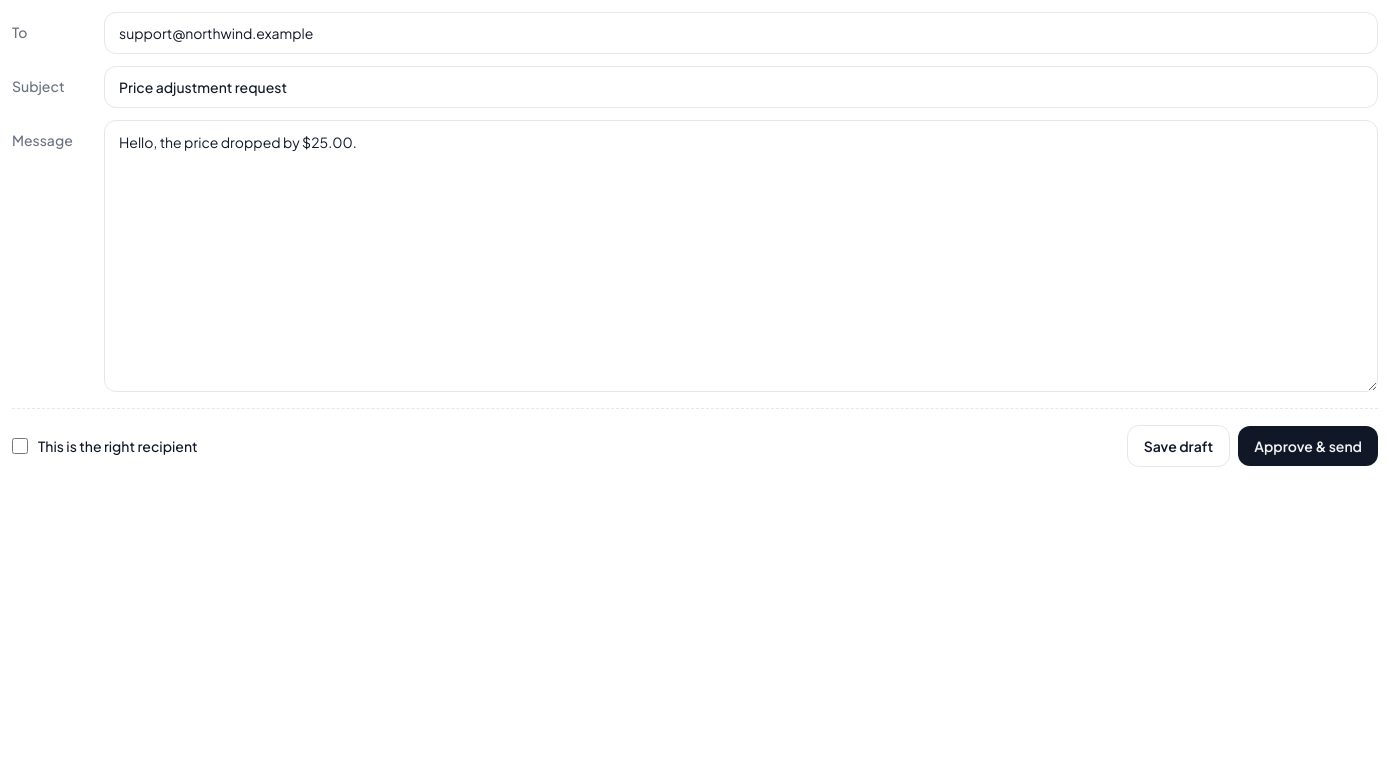
Test: Composer: prepareSend before every send › outcome_not_approvable explains and disables sending
Click the button "Approve & send": (1308, 446) [1238,426,1378,466]
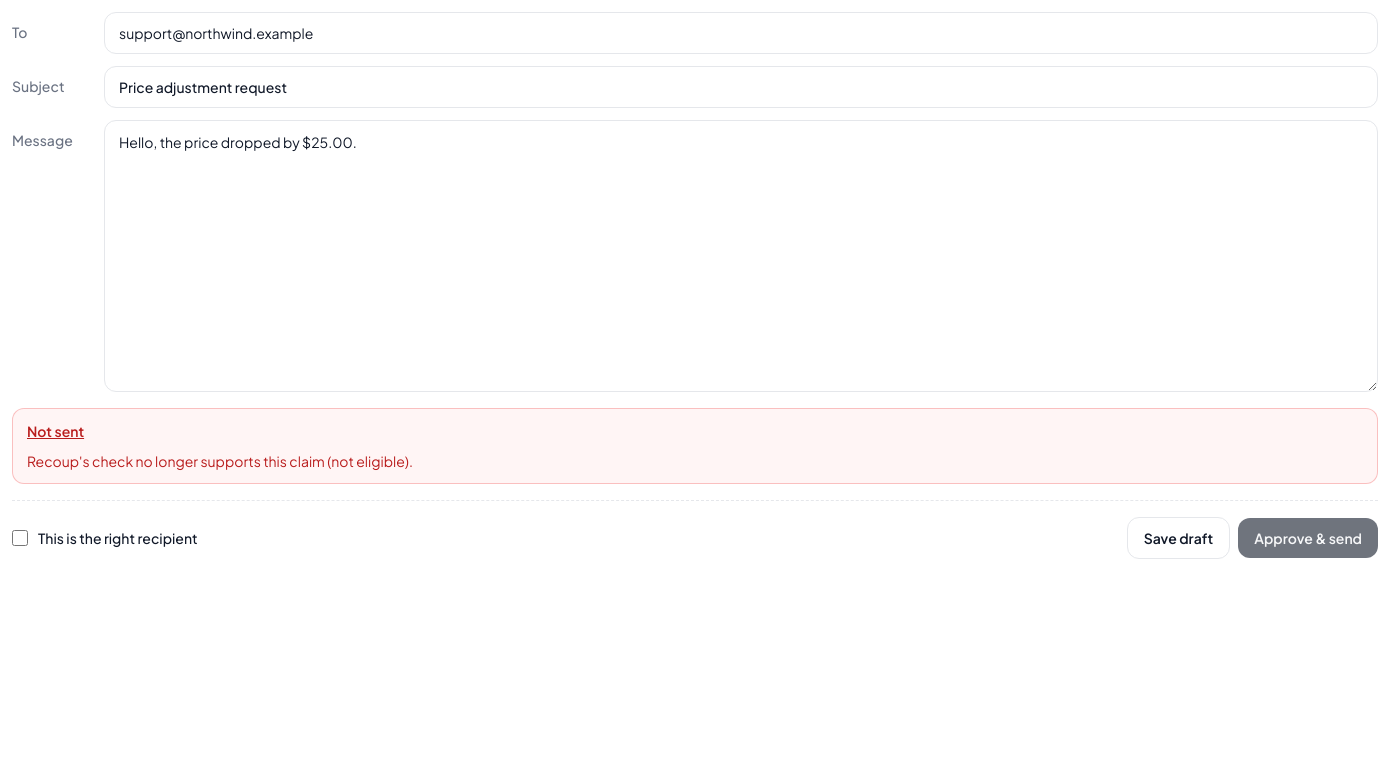
Check: the element "Not sent" shows "no longer supports this claim", box [27,452,413,470]
Check: the button "Approve & send" is disabled, box [1238,518,1378,558]
